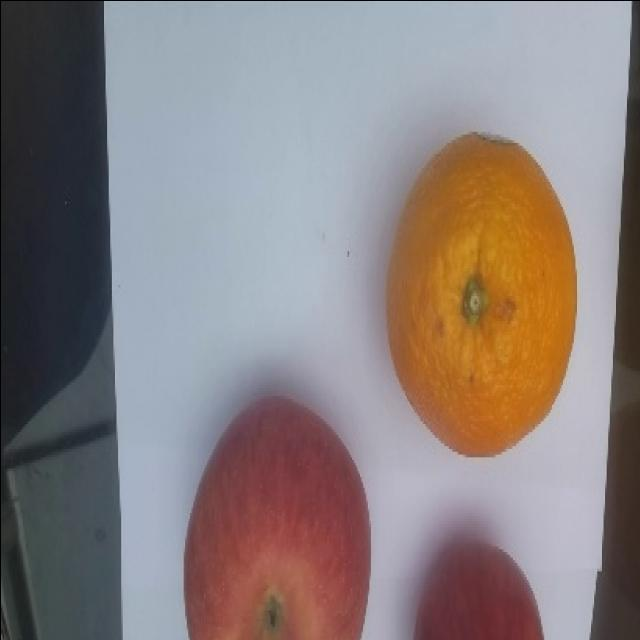Apple: (182, 394, 371, 639), (412, 532, 544, 639)
Orange: (385, 130, 577, 458)
